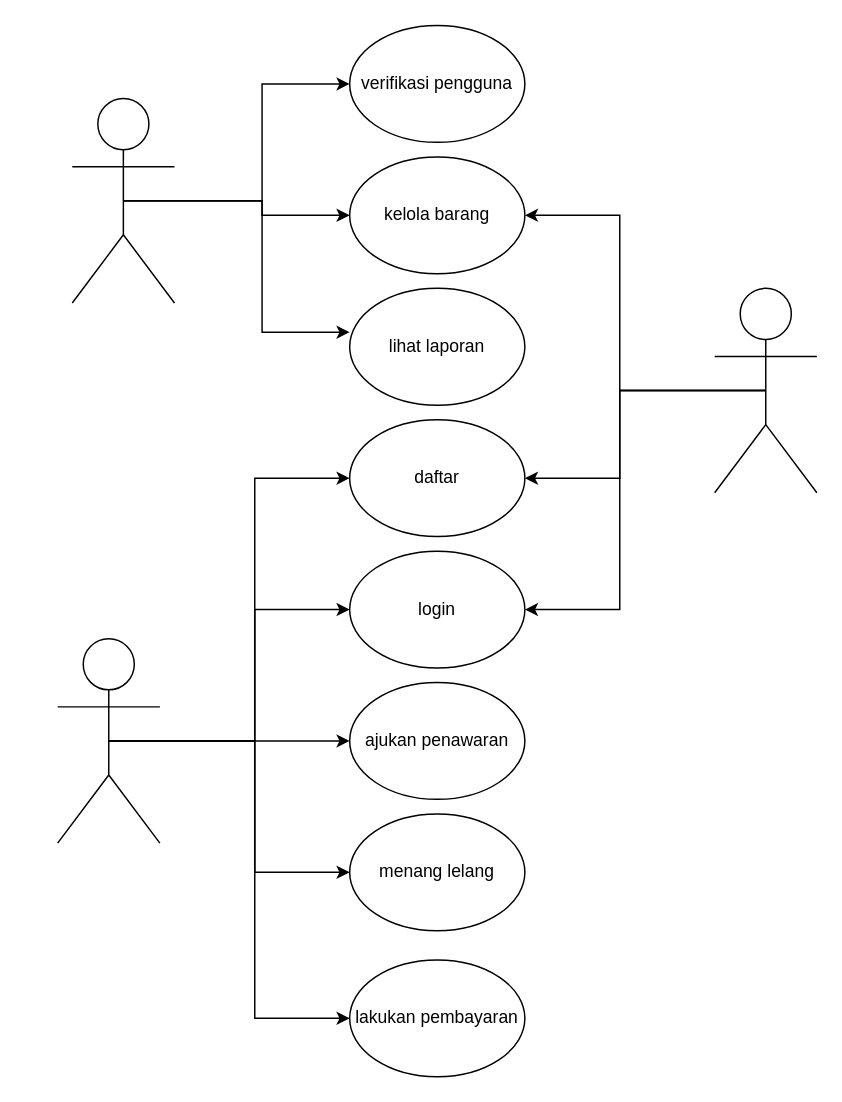
Some shapes in this 842 by 1102 pixel diagram are drawn without their labels. Here are the shapes that lost their labels. From the top down, the box of each, then its label:
(71, 97, 174, 303): ADMIN
(713, 287, 817, 493): PENJUAL
(56, 637, 160, 843): PEMBELI/PENAWAR
